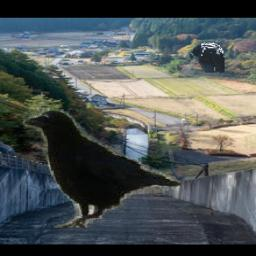Crow: (20, 105, 180, 229), (190, 43, 225, 74)
